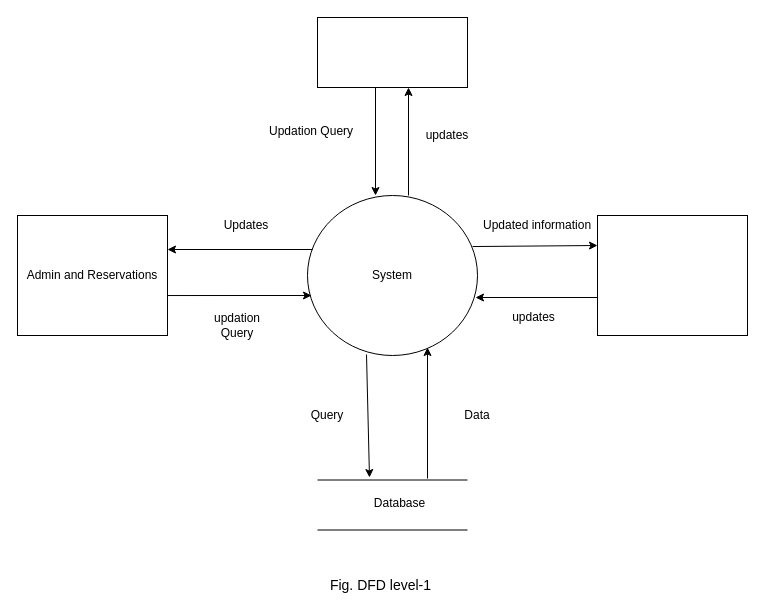
Image size: 765x613. Some labels were removed from this diagram. The shapes that lost their labels are listed below. From the top down, each one's box as (x1, y1, x2, y2) in pixels, then its label:
(316, 16, 468, 88): Invenotry
(596, 214, 748, 336): System Owner
